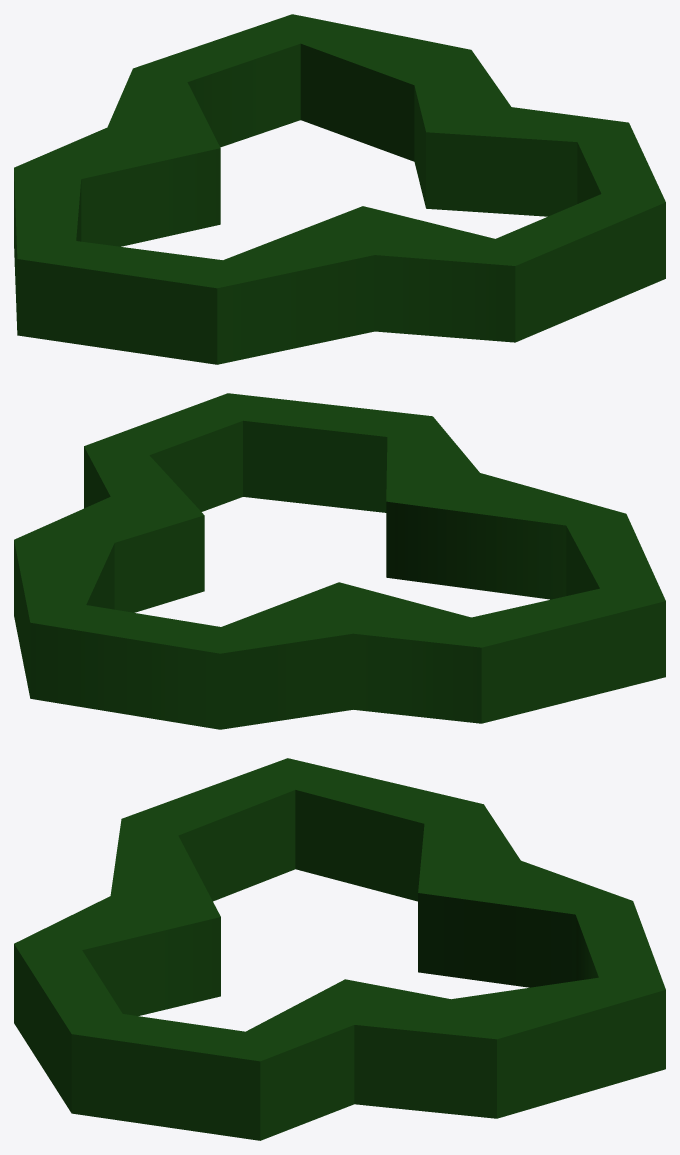
Rendered from food_slice_bellpepper.FBX.
3 renders of one model, top to bottom at view 1: azimuth 30°, elevation 25°; view 2: azimuth 150°, elevation 25°; view 3: azimuth 270°, elevation 25°, orthographic. The views are drawn at different scales.
Visible parts, largest first — view 1: food_slice_bellpepper; view 2: food_slice_bellpepper; view 3: food_slice_bellpepper.
Part boxes in pixels (box(x1,y1,x2,y2)): food_slice_bellpepper: box(14, 14, 665, 364); food_slice_bellpepper: box(14, 393, 665, 729); food_slice_bellpepper: box(14, 758, 665, 1140).
Bounding box in the file's own units: 69.86 × 8.53 × 63.46.
